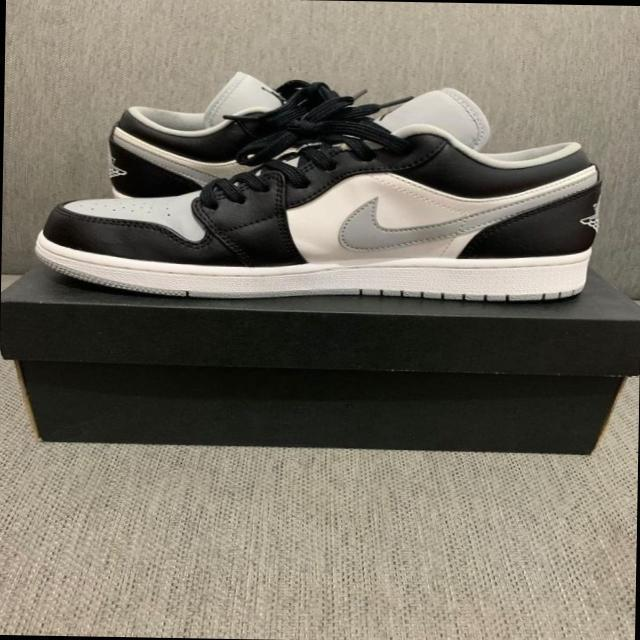nike fake jordan 1: (32, 116, 602, 304), (109, 74, 514, 200)
